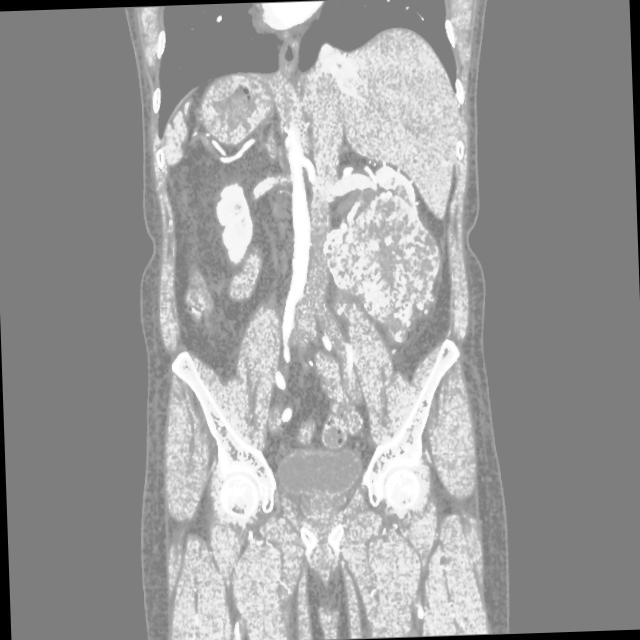TUMOR: (116, 156, 493, 344)
